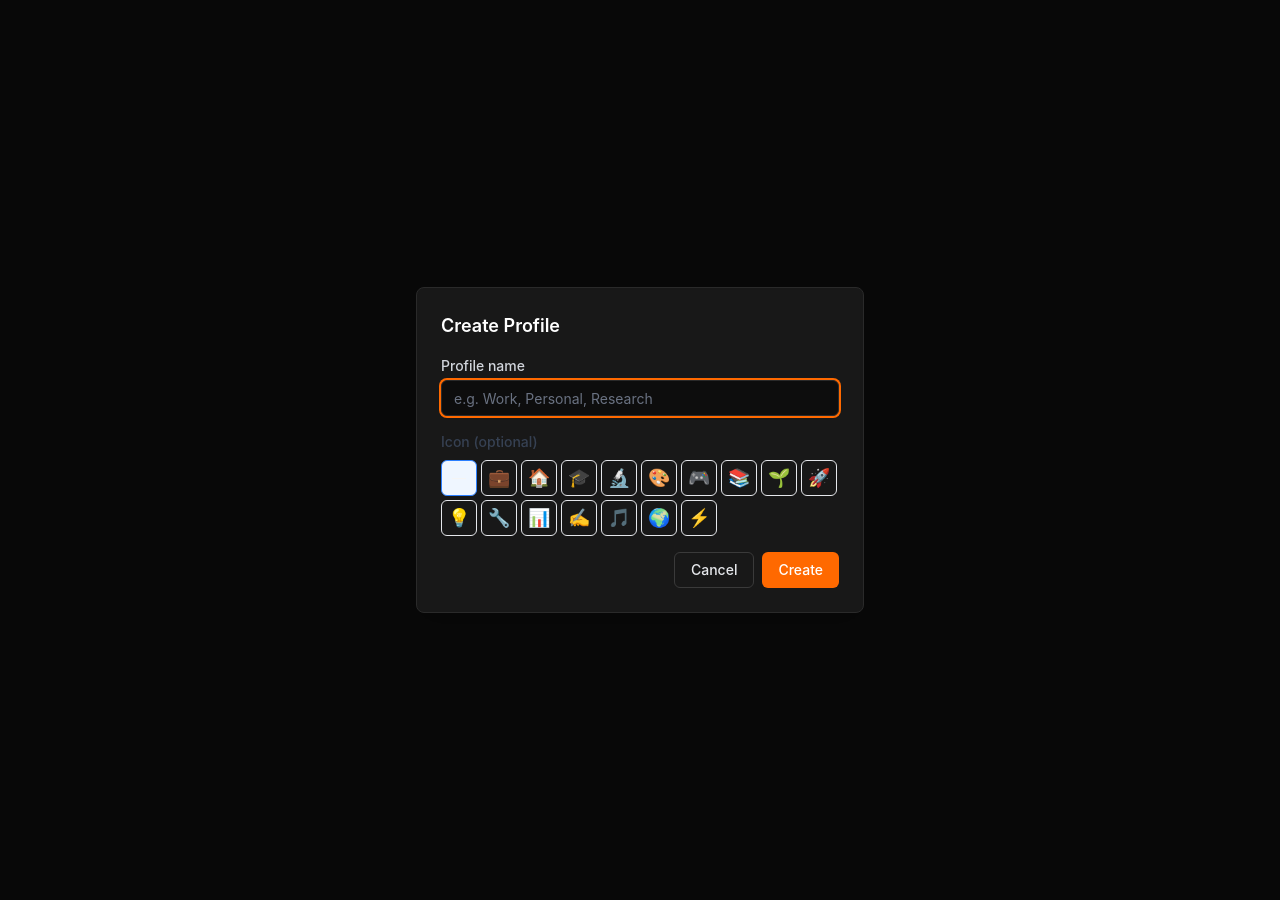
Test: CreateProfileDialog › shows validation error when name is empty on submit
The width and height of the screenshot is (1280, 900).
What coordinates should you click on to do the following:
click the button "Create"
I would click on:
 (801, 570)
Its box is [762, 552, 839, 588].
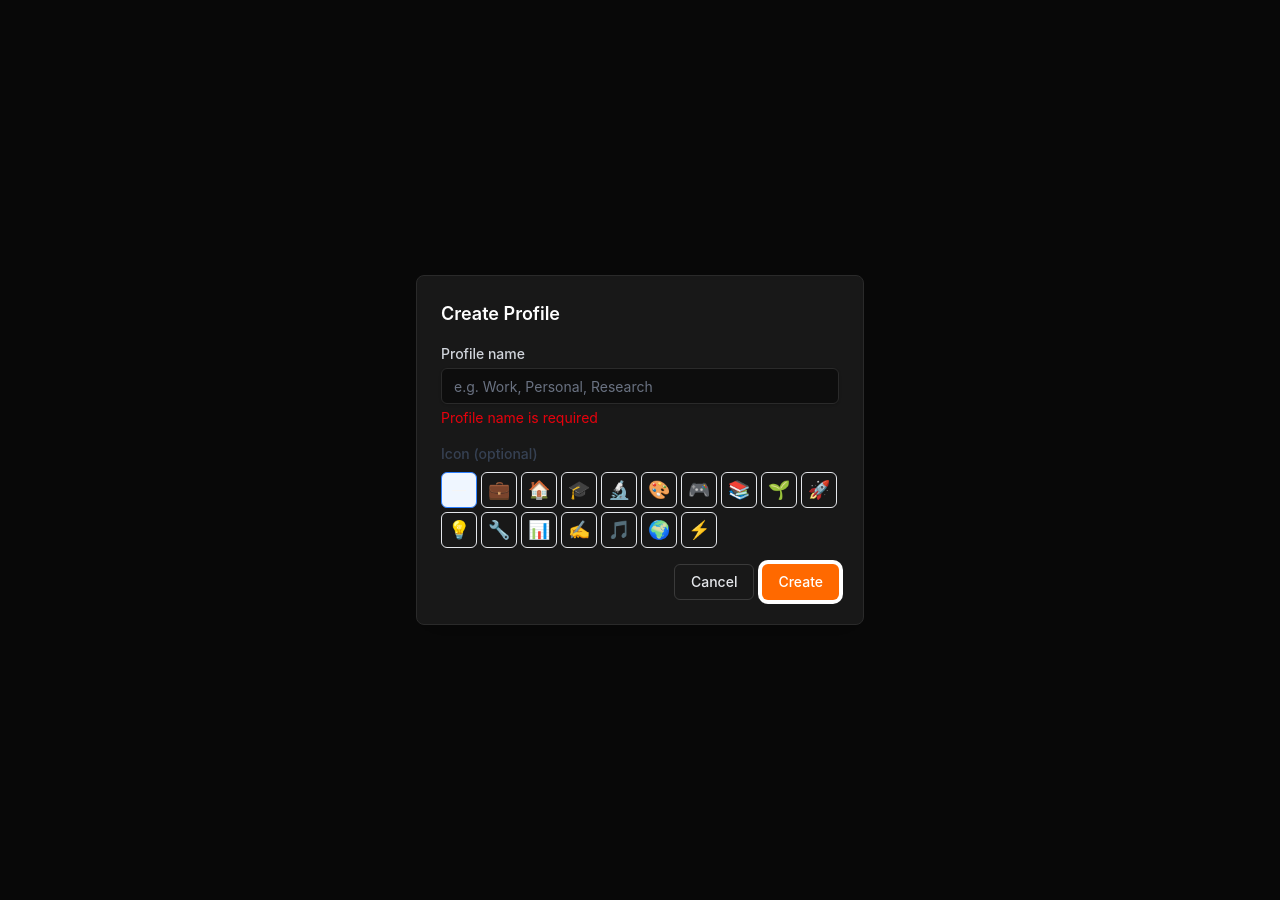
Check: the message reads "Profile name is required", box [441, 409, 598, 426]
